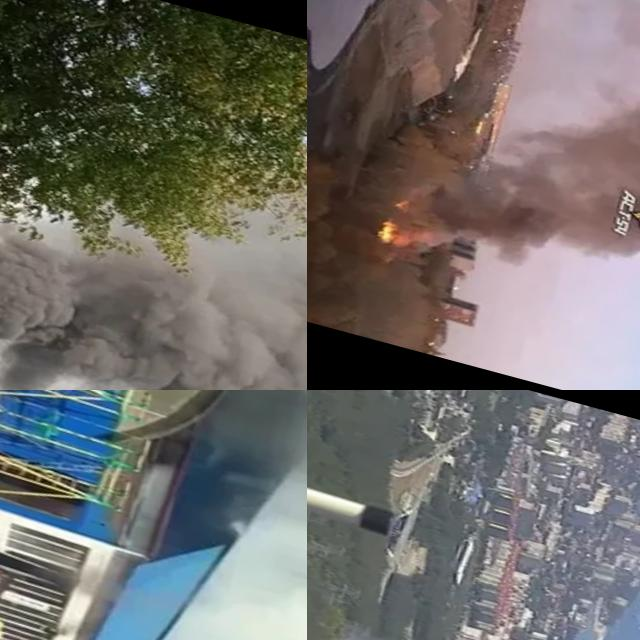smoke: (378, 0, 640, 376), (0, 168, 307, 390), (81, 390, 307, 640)
